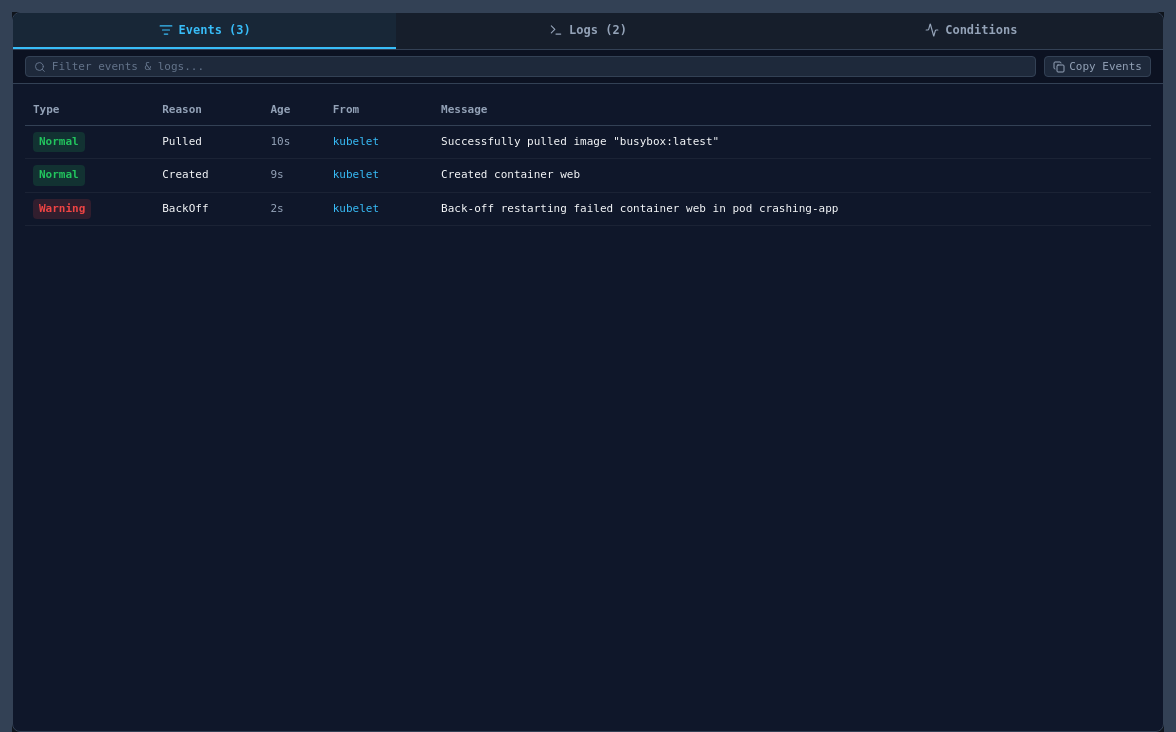
Test: DiagnosticLogPanel › filters logs by query in container logs tab and shows empty state when unmatched
The width and height of the screenshot is (1176, 732).
Click the tab "Logs (2)" at (588, 31), box [396, 13, 780, 49]
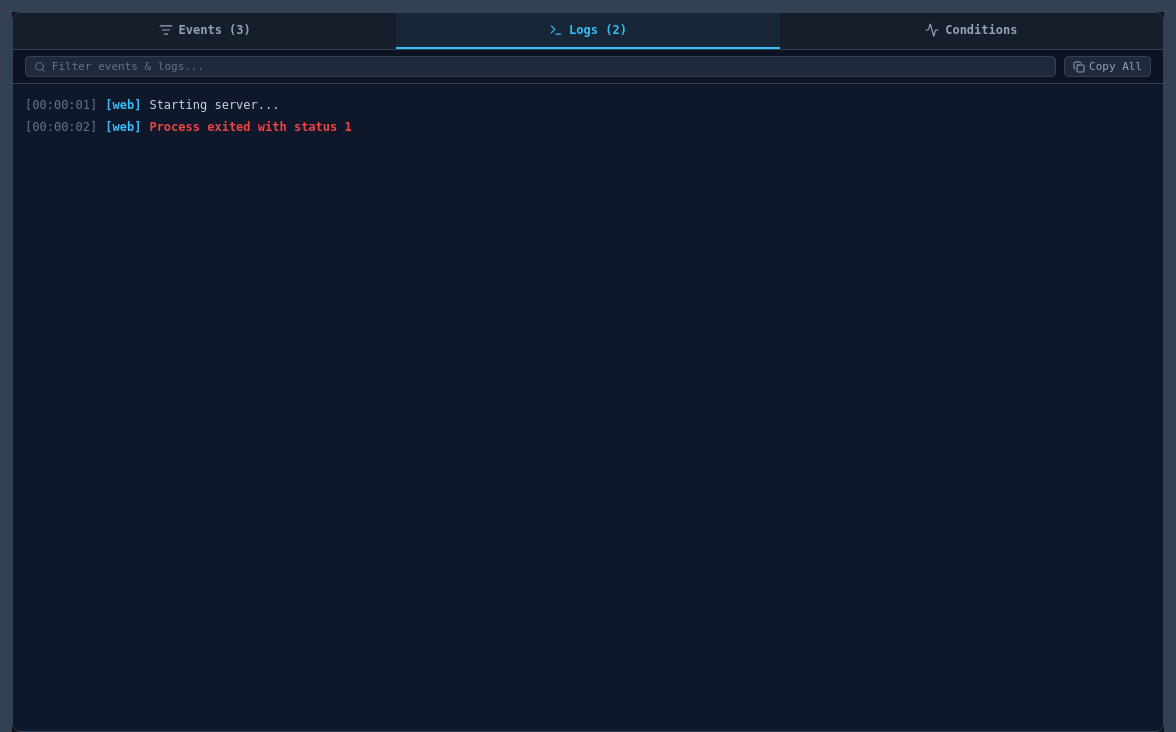
Type "unmatched-log-text-xyz" into the field with test id "diag-filter-input" at (549, 66), box [52, 60, 1047, 73]
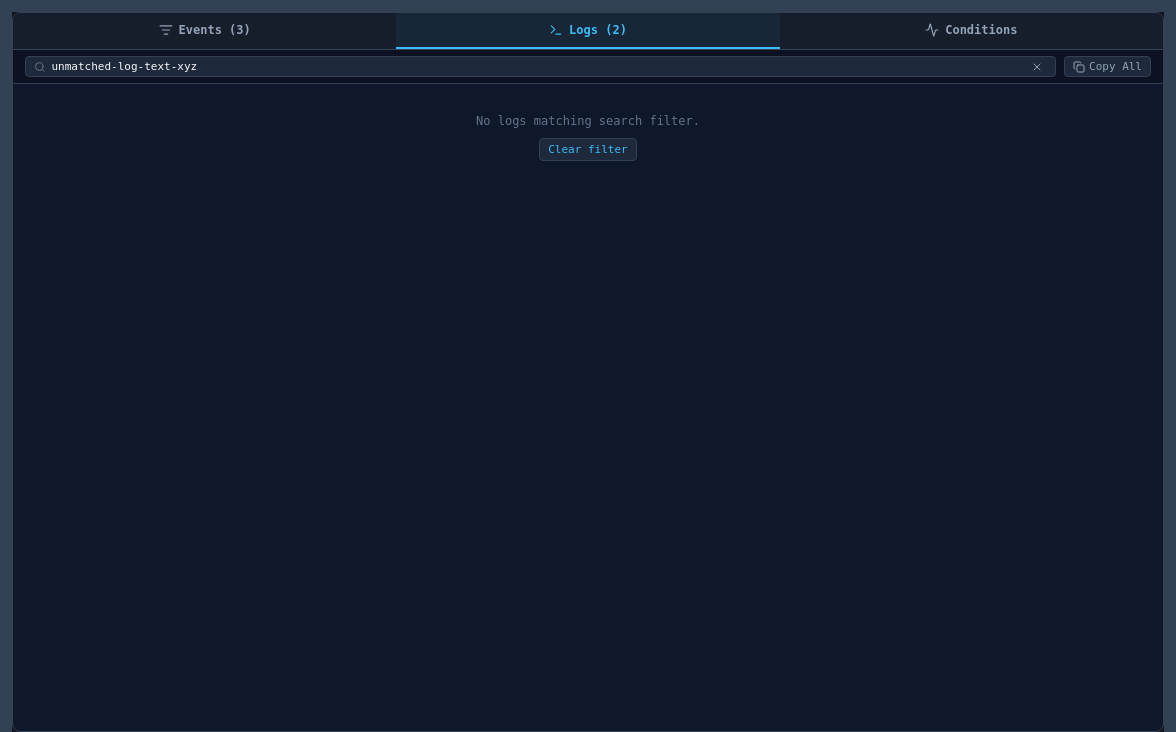
Result: the text "No logs matching search filter." is shown at [476, 114, 700, 128]
